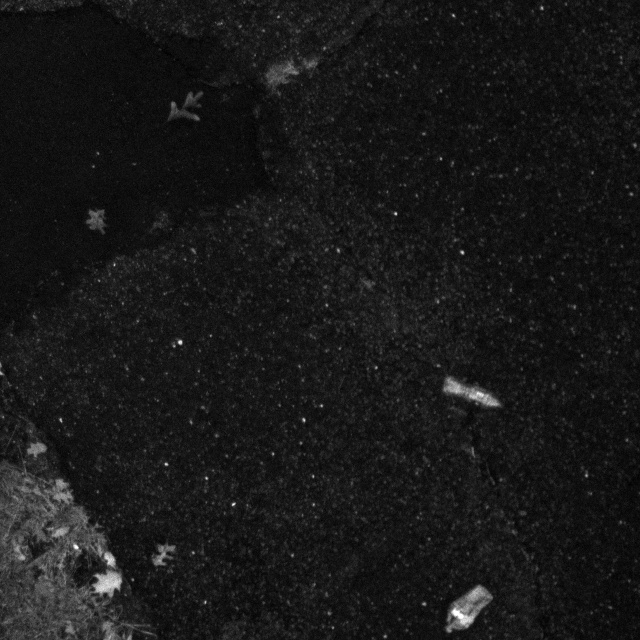bottle: (433, 575, 499, 640), (433, 374, 512, 415)
